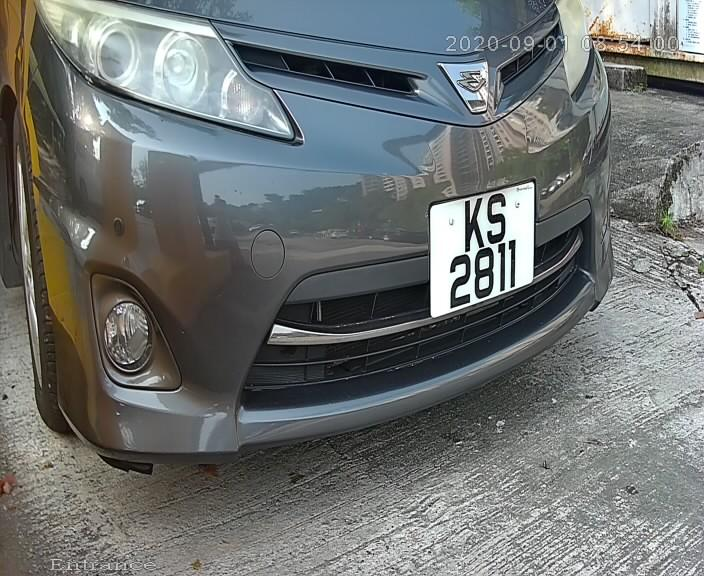License Plate: (422, 170, 544, 317)
